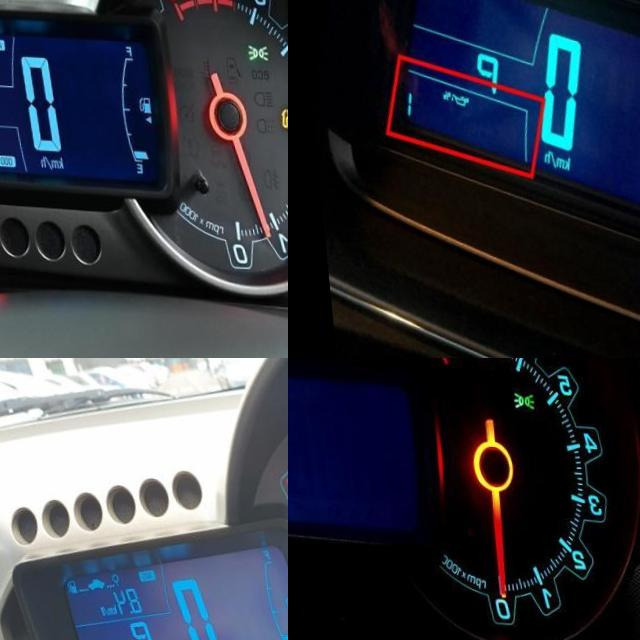Low fuel level: (274, 99, 288, 125)
SideLamp: (242, 37, 267, 57), (508, 386, 531, 404)
